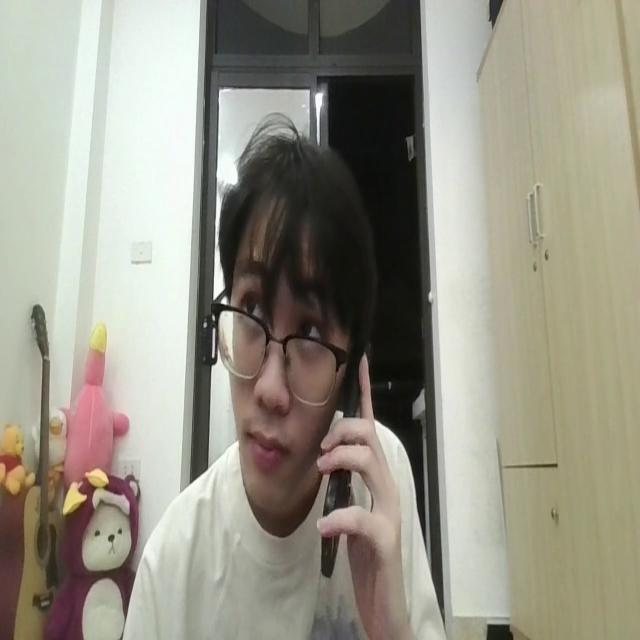phone: (314, 322, 374, 582)
student: (109, 108, 442, 640)
